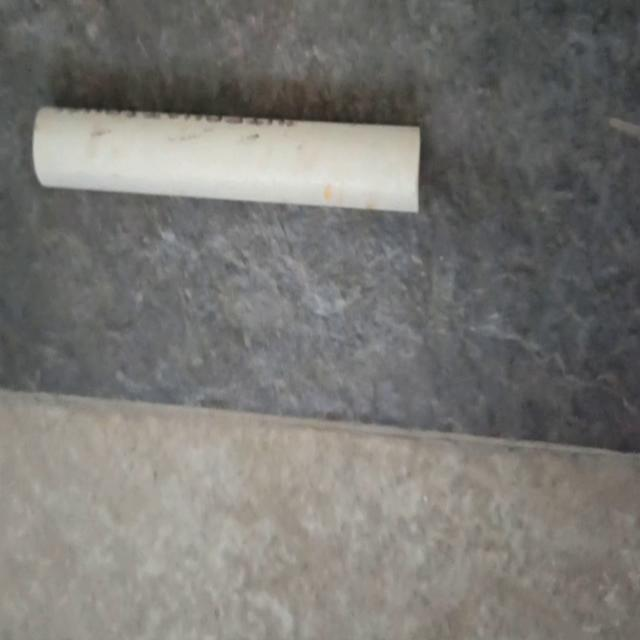Cube: (31, 101, 421, 215)
